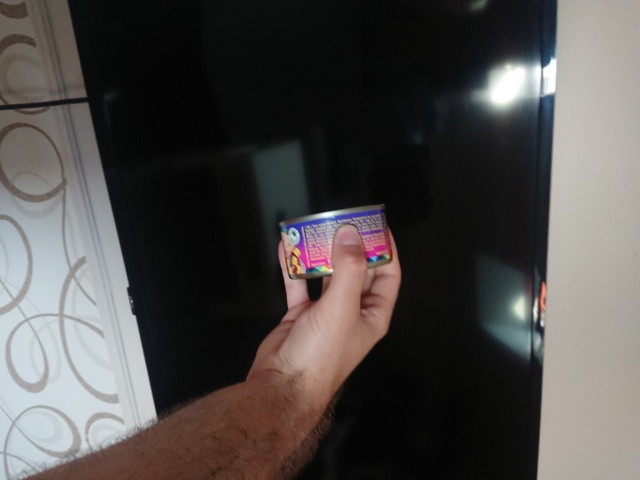Giana Tuna Salad Mexico 185g: (277, 196, 397, 282)
